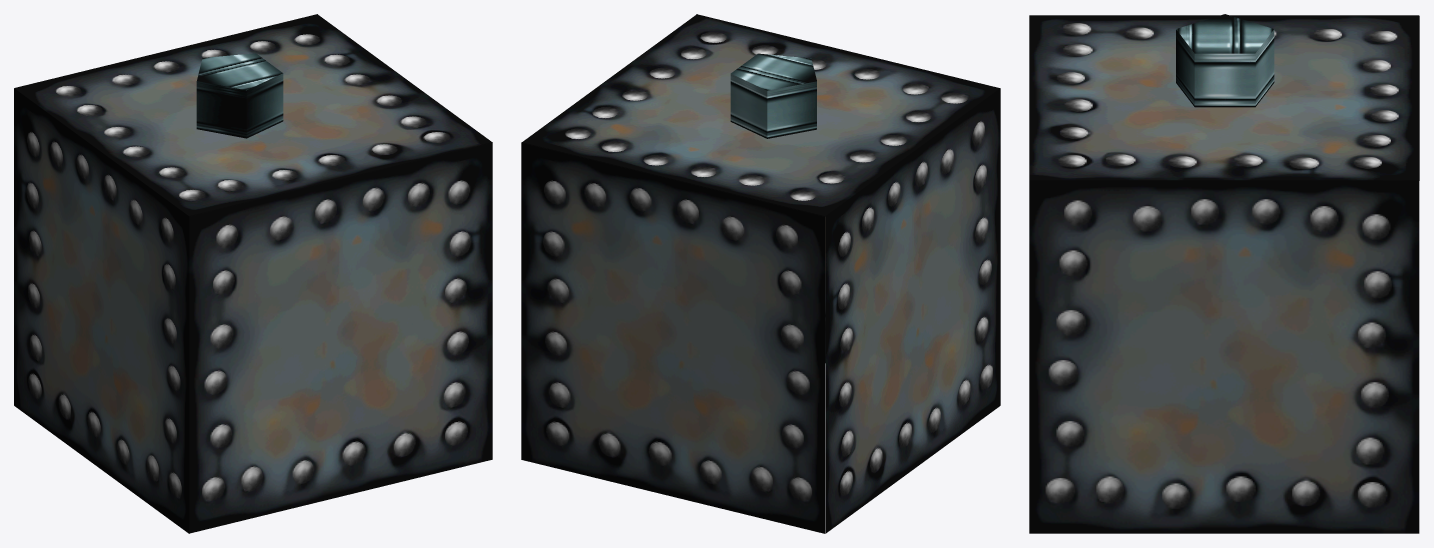
File: konsm_kiste3_2720.glb
3 views of the same model, side by side, from view 1: azimuth 30°, elevation 25°; view 2: azimuth 150°, elevation 25°; view 3: azimuth 270°, elevation 25° (orthographic). The views are drawn at different scales.
Visible parts, largest first — view 1: pPlaneShape89, pPlaneShape86, pPlaneShape85, pCylinderShape46; view 2: pPlaneShape88, pPlaneShape86, pPlaneShape85, pCylinderShape46; view 3: pPlaneShape87, pPlaneShape85, pCylinderShape46, pPlaneShape86.
Boxes of the visible parts, box(x1,y1,x2,y2) form: pPlaneShape89: box(189, 142, 492, 533); pPlaneShape86: box(14, 88, 189, 533); pPlaneShape85: box(15, 14, 491, 216); pCylinderShape46: box(196, 53, 283, 138); pPlaneShape88: box(521, 142, 824, 533); pPlaneShape86: box(825, 88, 1000, 533); pPlaneShape85: box(522, 15, 999, 216); pCylinderShape46: box(730, 53, 816, 138); pPlaneShape87: box(1029, 180, 1419, 533); pPlaneShape85: box(1029, 16, 1419, 180); pCylinderShape46: box(1176, 14, 1274, 107); pPlaneShape86: box(1029, 15, 1419, 179).
Size of the model in its own units: 0.2542 by 0.2922 by 0.2542.
Materials: 6 (6 with a texture image).
